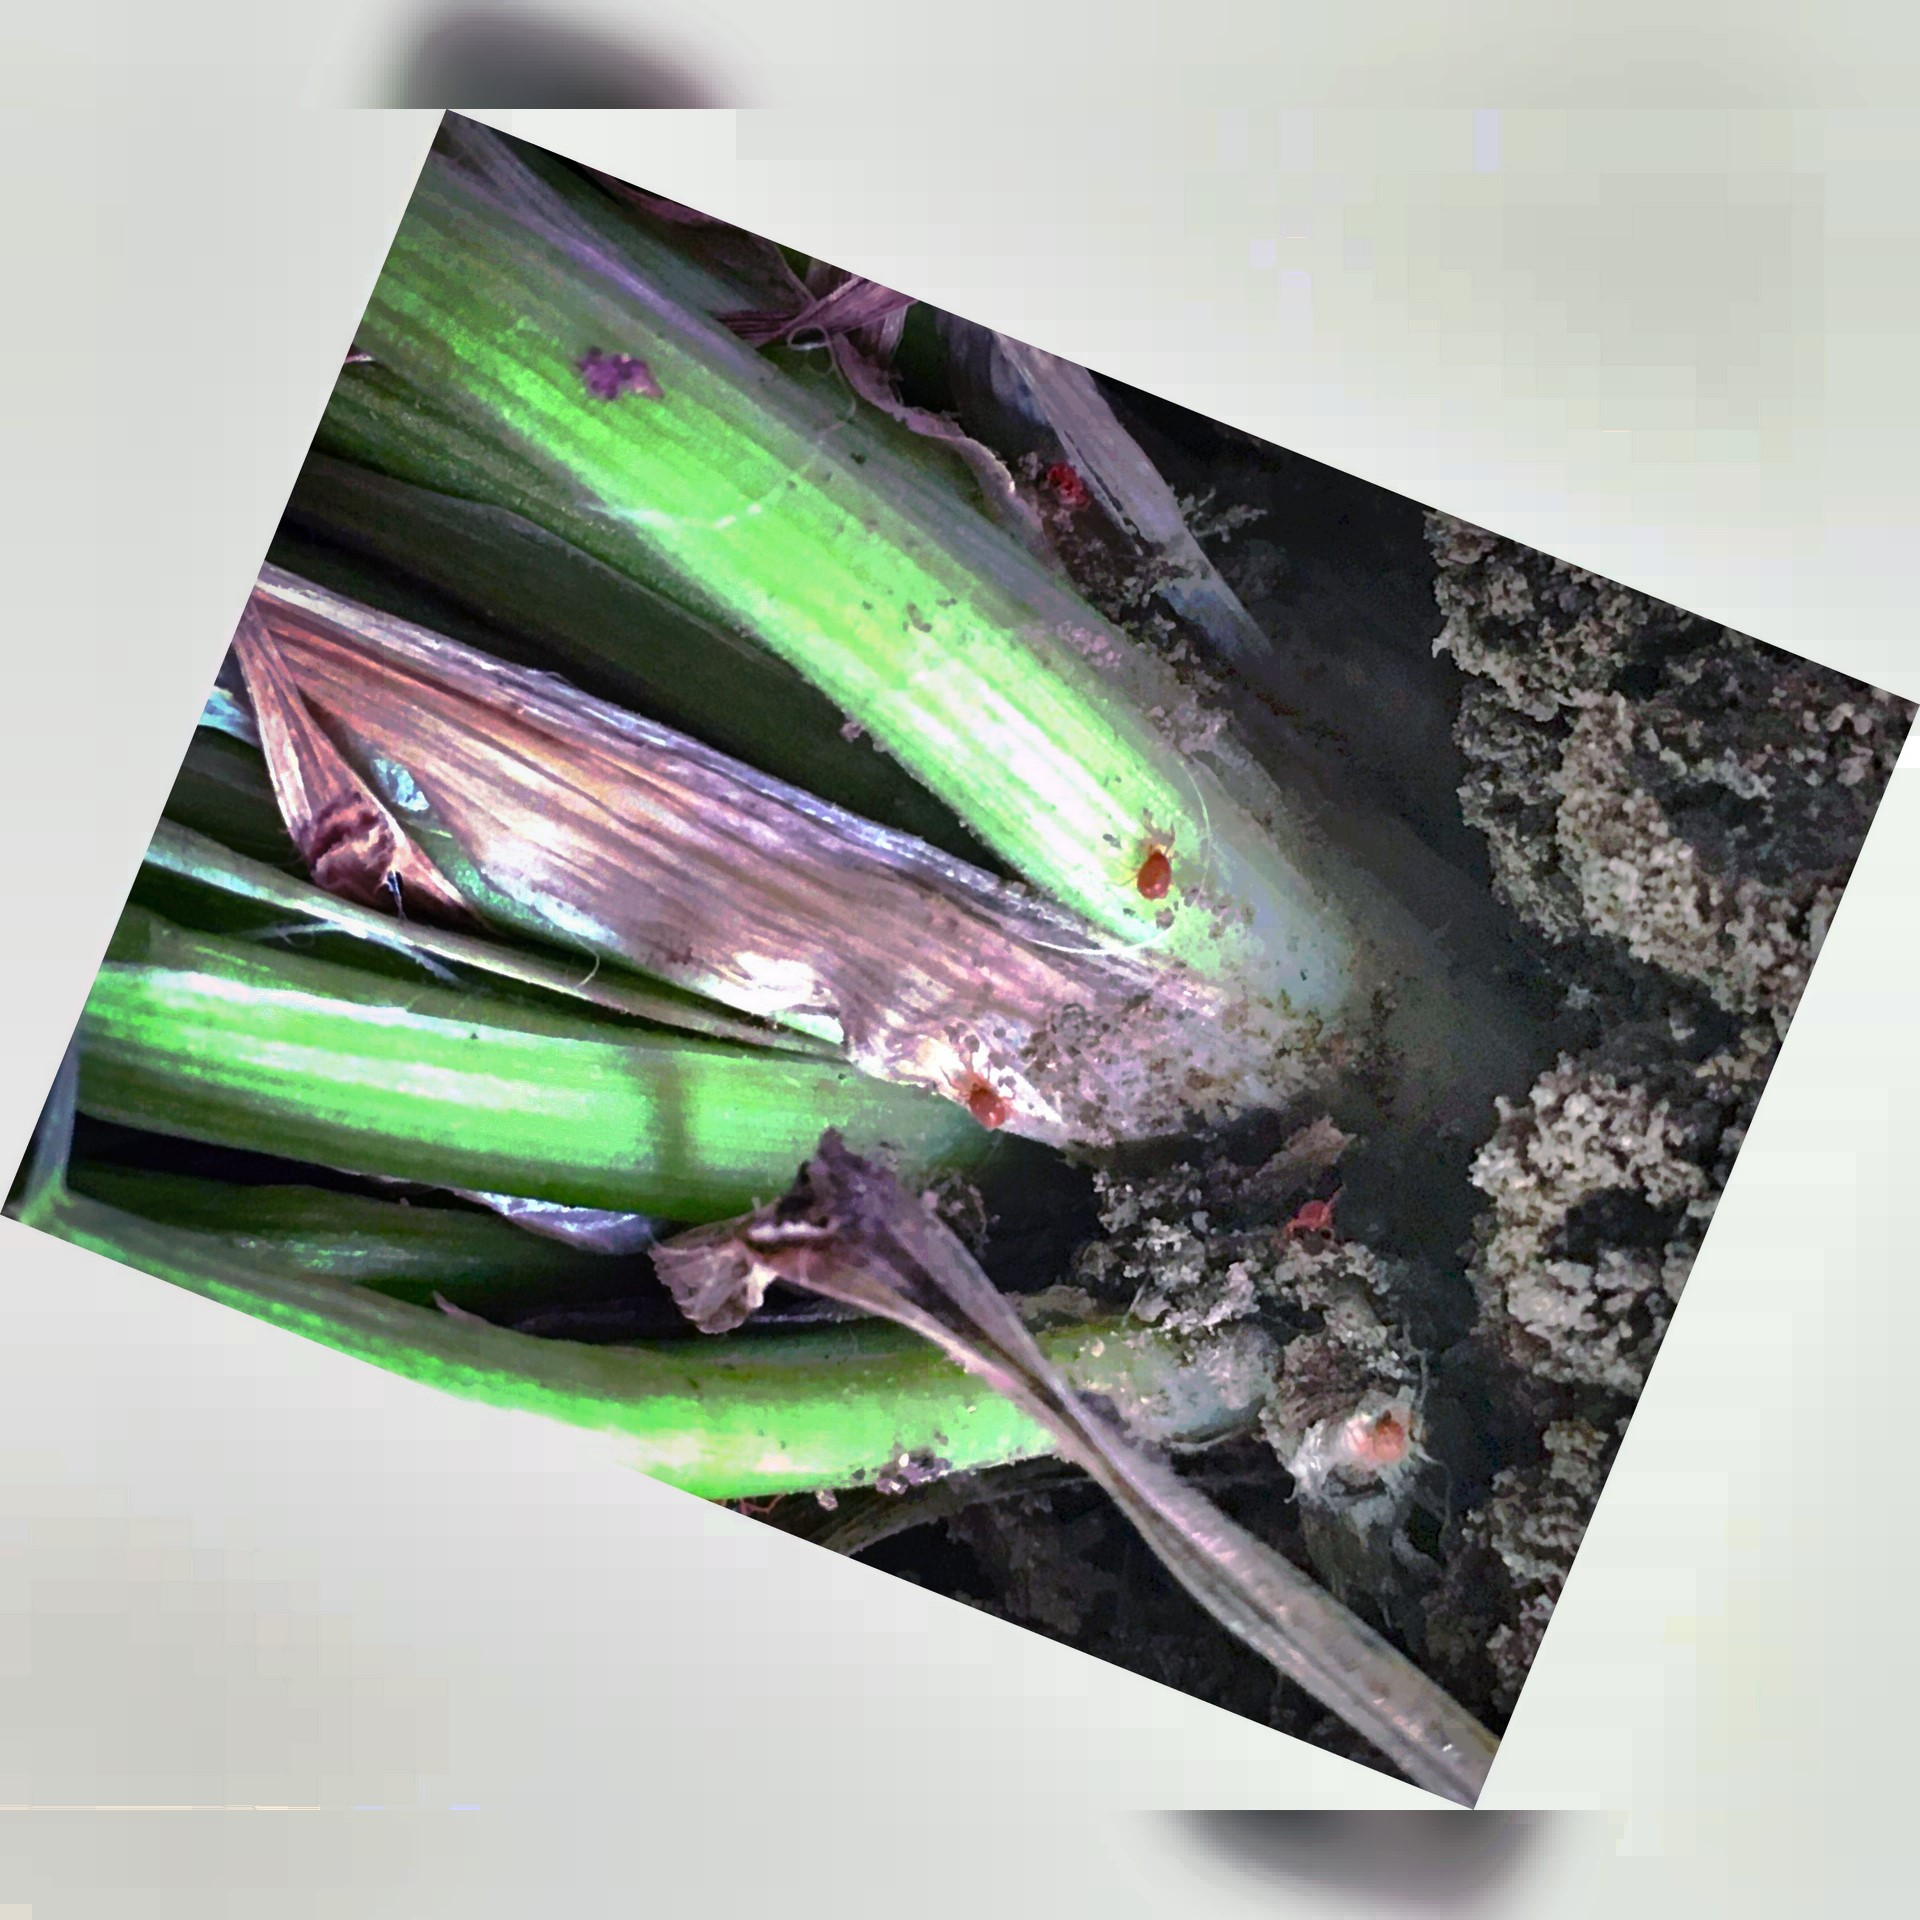Wheat Red Spider: (921, 1046, 1046, 1155)
